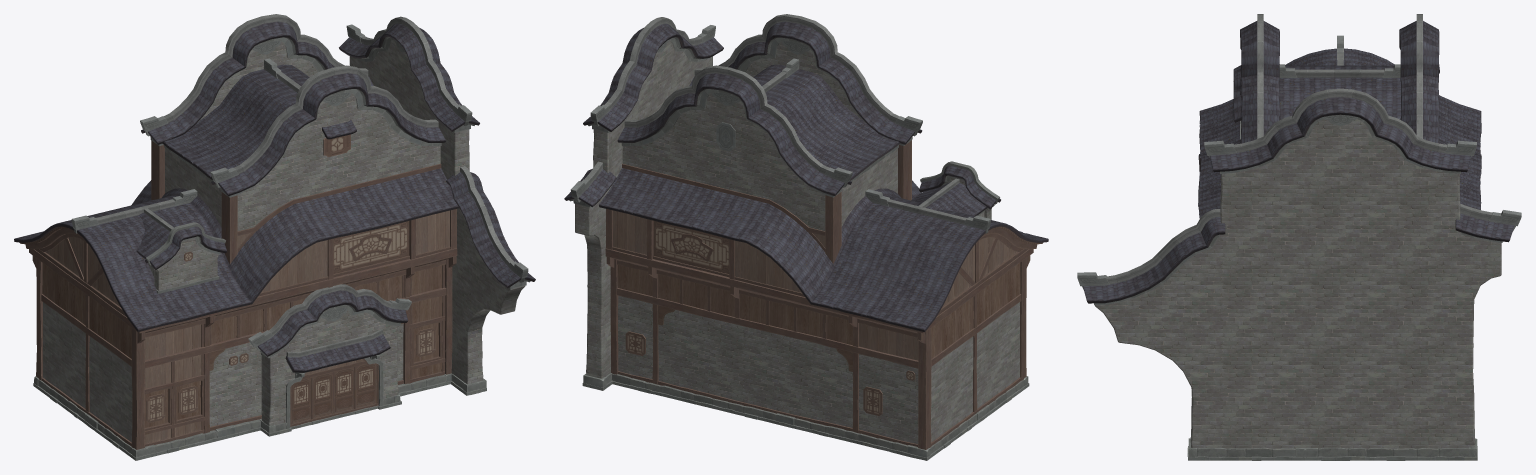
The model's file is Homeworld_Exterior_Cyg_Build_YlbHuishi_01_Lod0.fbx.
The picture shows the model from 3 angles, left to right: view 1: azimuth 30°, elevation 25°; view 2: azimuth 150°, elevation 25°; view 3: azimuth 270°, elevation 25°; orthographic projection. The views are drawn at different scales.
Parts seen in each view (by area): view 1: Homeworld_Exterior_Cyg_Build_YlbHuishi_01_Lod0; view 2: Homeworld_Exterior_Cyg_Build_YlbHuishi_01_Lod0; view 3: Homeworld_Exterior_Cyg_Build_YlbHuishi_01_Lod0.
Part boxes in pixels (x1,y1,x2,y2): Homeworld_Exterior_Cyg_Build_YlbHuishi_01_Lod0: [14, 14, 535, 460]; Homeworld_Exterior_Cyg_Build_YlbHuishi_01_Lod0: [564, 14, 1048, 460]; Homeworld_Exterior_Cyg_Build_YlbHuishi_01_Lod0: [1077, 14, 1521, 460].
Size of what is drawn, in the model's own units: 21.72 by 19.41 by 21.02.
